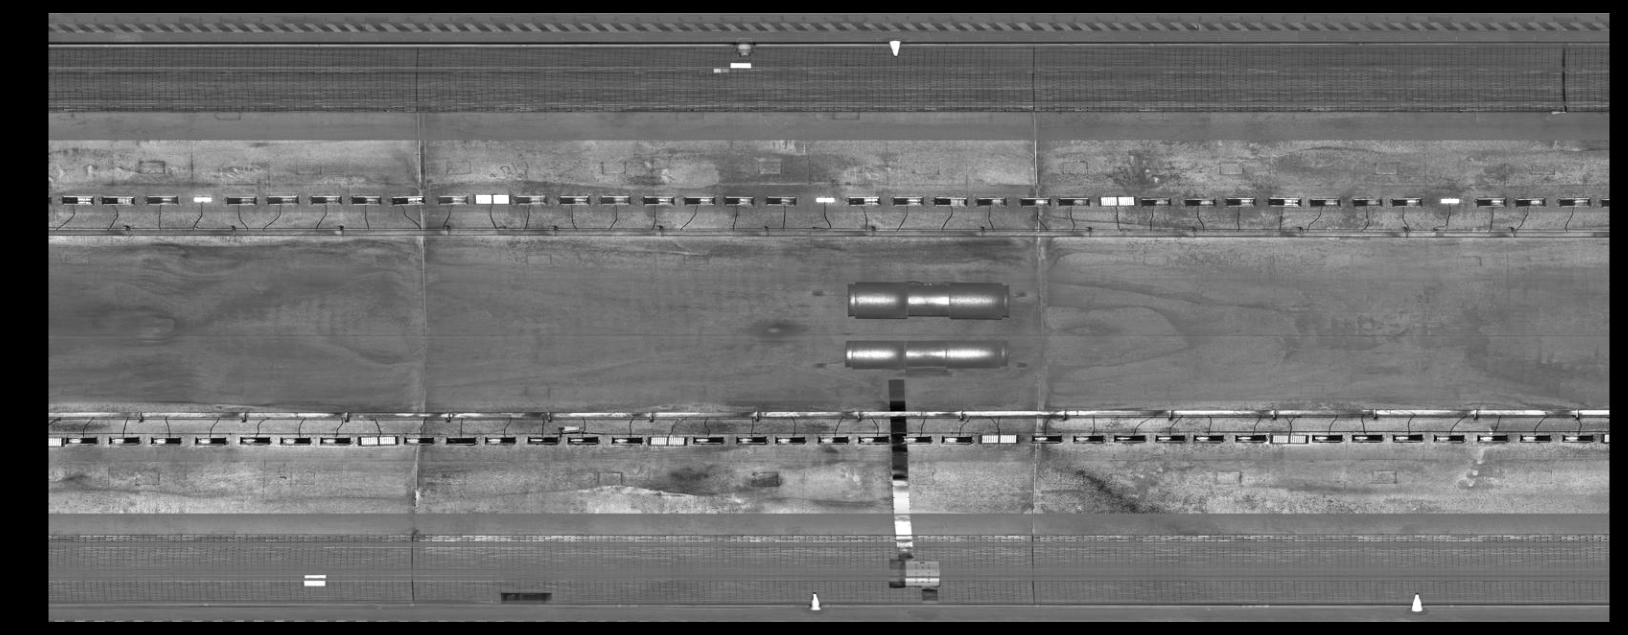light: (355, 433, 400, 448), (646, 433, 689, 448), (512, 191, 551, 208), (1267, 432, 1310, 446), (978, 432, 1021, 446), (1265, 195, 1305, 210), (1096, 194, 1136, 209), (639, 193, 678, 208), (265, 192, 301, 208), (97, 194, 138, 208), (472, 192, 511, 206), (388, 193, 427, 208), (1056, 194, 1093, 209), (596, 193, 633, 208), (557, 193, 594, 208), (854, 433, 892, 447), (275, 434, 315, 447), (236, 433, 275, 446), (191, 434, 230, 447), (104, 433, 143, 446), (734, 433, 770, 447), (691, 432, 728, 446), (442, 433, 479, 447), (145, 434, 184, 447), (1224, 194, 1259, 209), (307, 193, 343, 208), (525, 433, 561, 447), (1181, 195, 1218, 209), (973, 194, 1010, 208), (890, 194, 927, 208), (681, 194, 718, 208), (433, 193, 470, 206), (58, 194, 96, 208), (1559, 431, 1597, 444), (898, 433, 935, 446), (400, 433, 437, 446), (930, 195, 970, 208), (1556, 194, 1593, 208), (1306, 196, 1342, 210), (1016, 194, 1053, 208), (349, 193, 385, 206), (815, 433, 851, 446), (566, 434, 602, 447), (317, 435, 353, 448), (142, 194, 181, 206), (1348, 432, 1386, 444), (481, 434, 519, 446), (223, 194, 259, 208), (1309, 431, 1345, 444), (609, 434, 645, 447), (1137, 196, 1174, 209), (1431, 432, 1468, 444), (1387, 432, 1424, 444), (63, 434, 101, 446), (1473, 195, 1508, 209), (940, 433, 974, 446), (774, 433, 808, 446), (1350, 196, 1386, 209), (721, 195, 757, 208), (1027, 433, 1063, 445), (1110, 433, 1149, 444), (846, 194, 881, 206), (1190, 432, 1225, 444), (1387, 196, 1426, 208), (761, 195, 799, 206), (1517, 433, 1555, 444), (1512, 196, 1549, 208), (1473, 433, 1511, 444), (1070, 433, 1108, 444), (1233, 433, 1270, 444), (1154, 433, 1187, 443), (1436, 195, 1464, 206), (188, 195, 216, 204), (812, 195, 836, 205), (48, 435, 63, 447), (1597, 194, 1608, 209), (1599, 429, 1608, 446)
